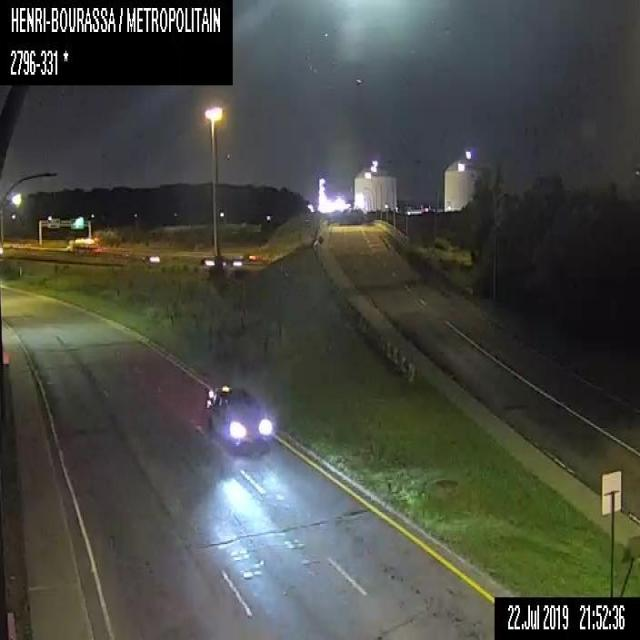vehicle: (202, 381, 272, 452), (65, 237, 101, 256)
